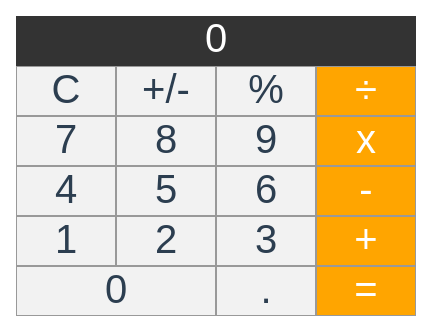
it: Calculator › should shows the current number when user click to a number
Step 1. Click the button with id "btn1" → [66, 241], box [16,216,116,266]
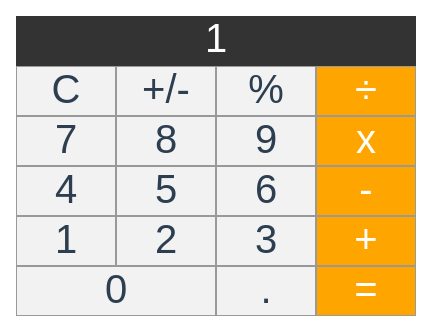
Expected: the text with class "display" reads "1", [205,16,227,60]
